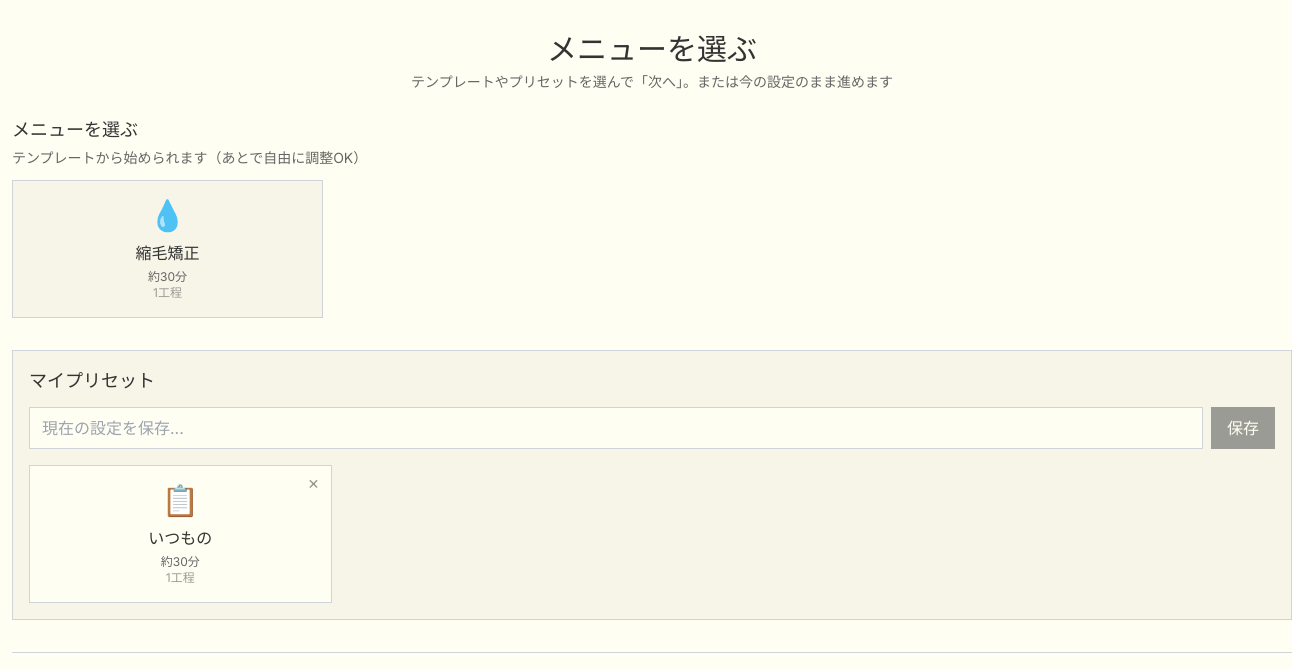
Test case: MenuSelectScreen › does not apply a template on a single card tap (select-then-next)
The width and height of the screenshot is (1292, 669).
Click the text "縮毛矯正".
click(168, 253)  # box [136, 241, 200, 265]
(page scrolled)
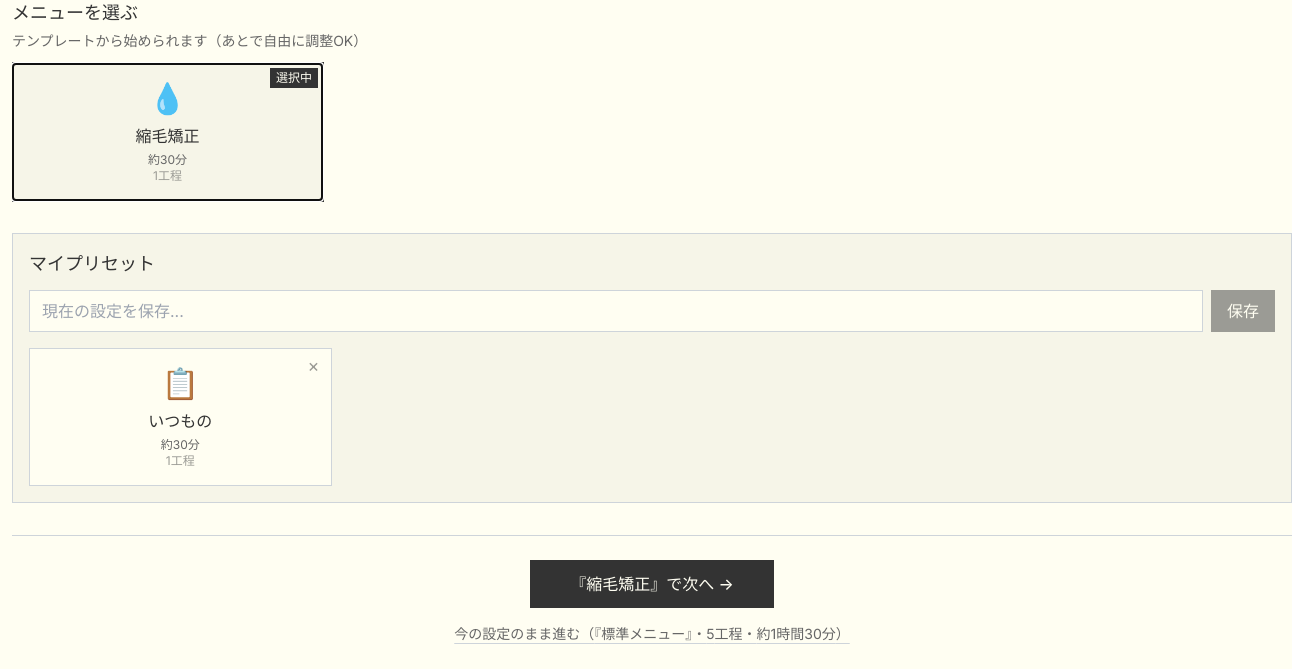
Expected: the button "『縮毛矯正』で次へ →" is enabled, [530, 560, 774, 608]
